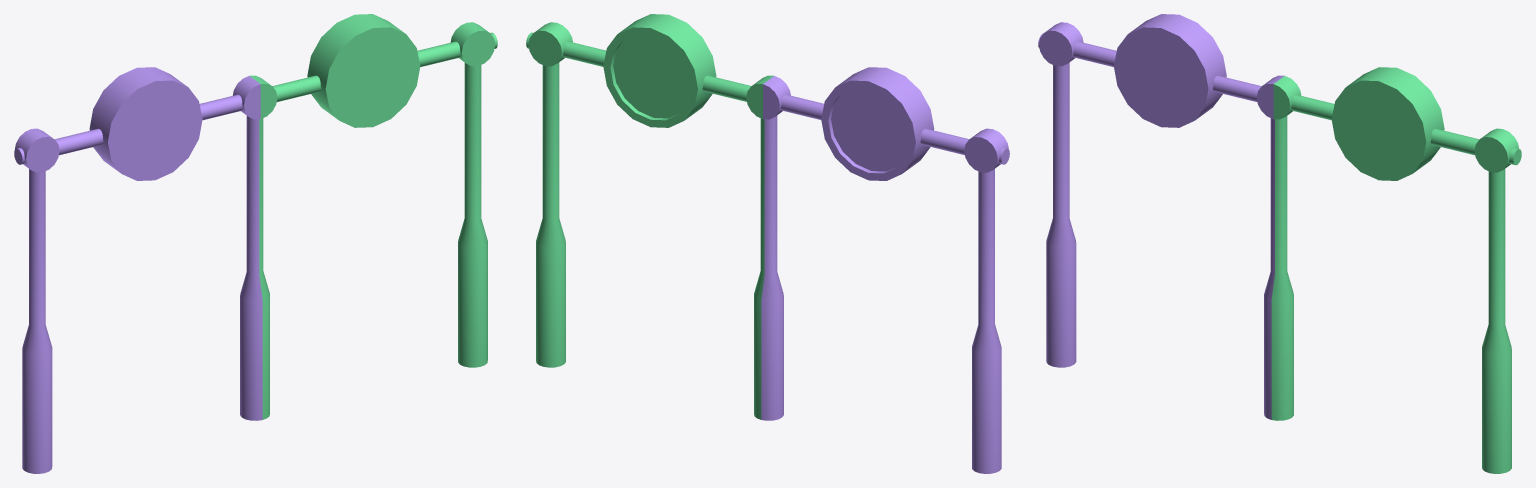
File: 2-Gate.fbx
The picture shows the model from 3 angles, left to right: view 1: azimuth 30°, elevation 25°; view 2: azimuth 150°, elevation 25°; view 3: azimuth 330°, elevation 25°; orthographic projection.
Parts seen in each view (by area): view 1: 2-Gate; view 2: 2-Gate; view 3: 2-Gate.
Part boxes in pixels (box(x1,y1,x2,y2)): 2-Gate: box(14, 14, 497, 473); 2-Gate: box(526, 14, 1009, 473); 2-Gate: box(1038, 14, 1521, 473).
Size of the model in its own units: 655 by 482 by 43.66.
